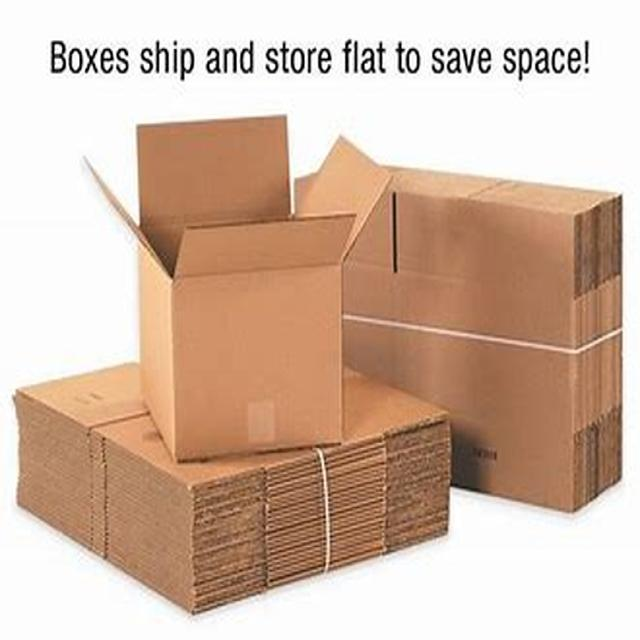box: (82, 98, 378, 456)
